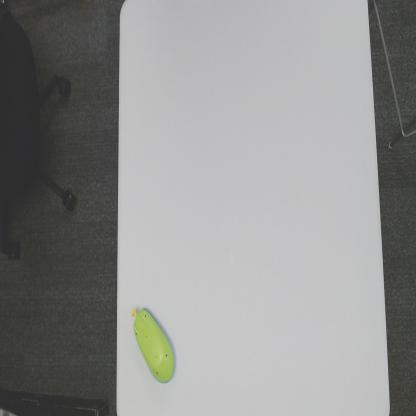Boat: (129, 294, 178, 393)
